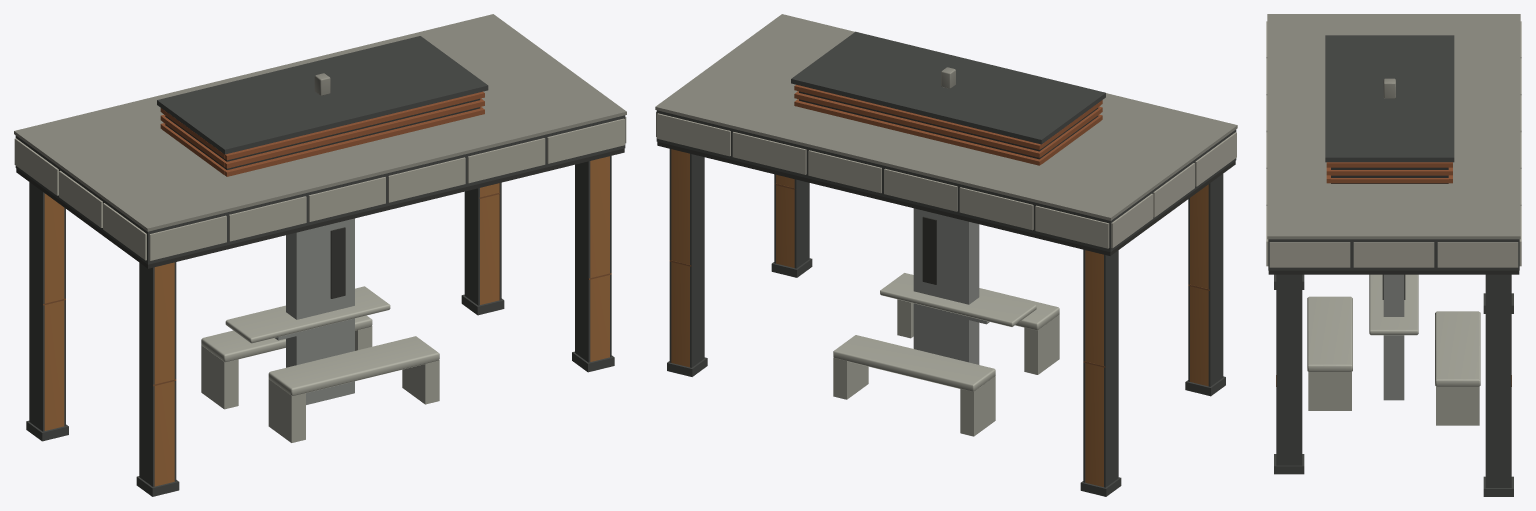
Rendered from canopy.glb.
3 renders of one model, left to right at view 1: azimuth 30°, elevation 25°; view 2: azimuth 150°, elevation 25°; view 3: azimuth 270°, elevation 25°, orthographic. The views are drawn at different scales.
Parts seen in each view (by area): view 1: Surface; view 2: Surface; view 3: Surface.
Boxes of the visible parts, <box> form: Surface: <box>14,14,626,496</box>; Surface: <box>655,14,1237,496</box>; Surface: <box>1266,14,1521,496</box>.
Size of the model in its own units: 5.03 by 3.45 by 2.43.
